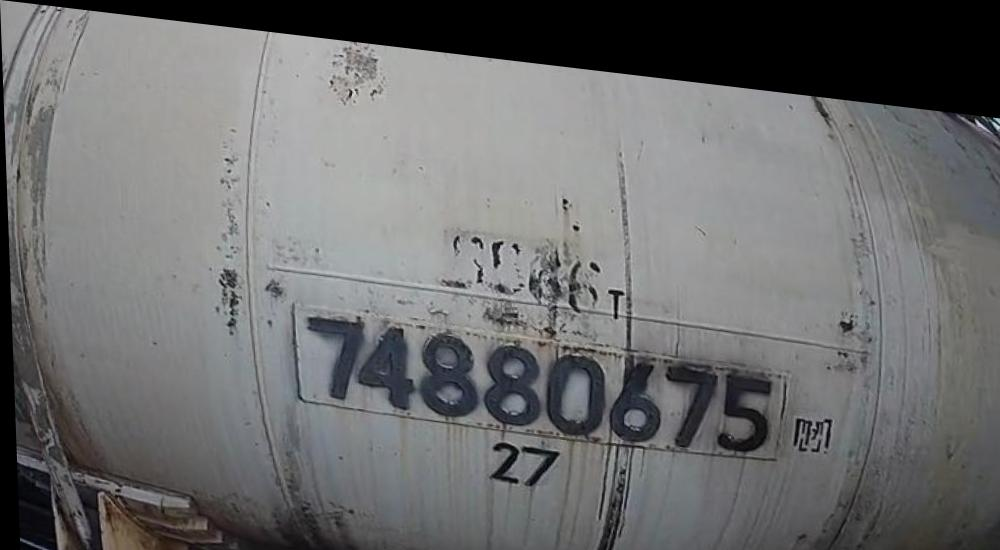Wagon-number: (302, 299, 777, 443)
